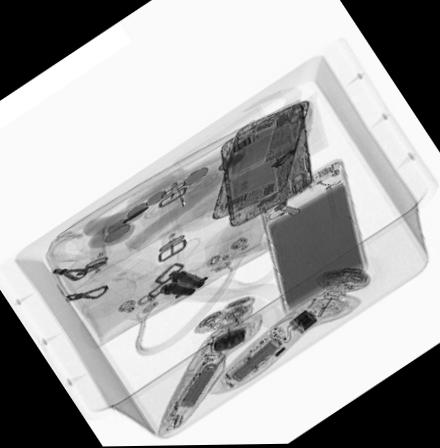Powerbank: (254, 156, 367, 319)
